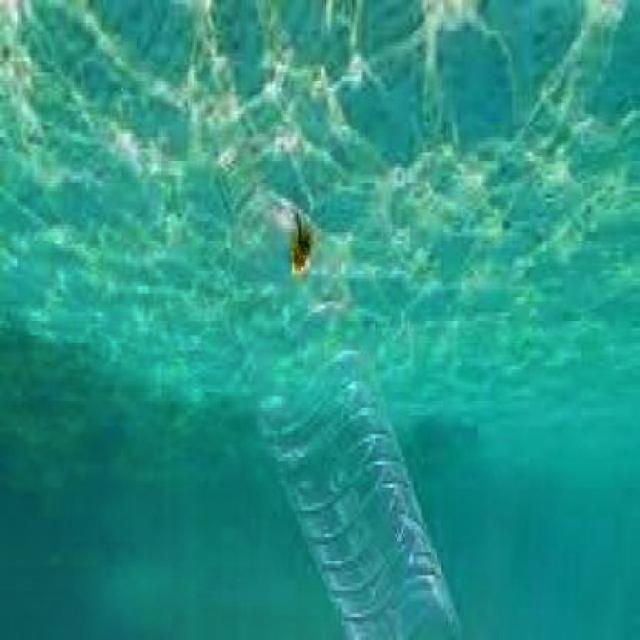pbottle: (196, 132, 470, 640)
